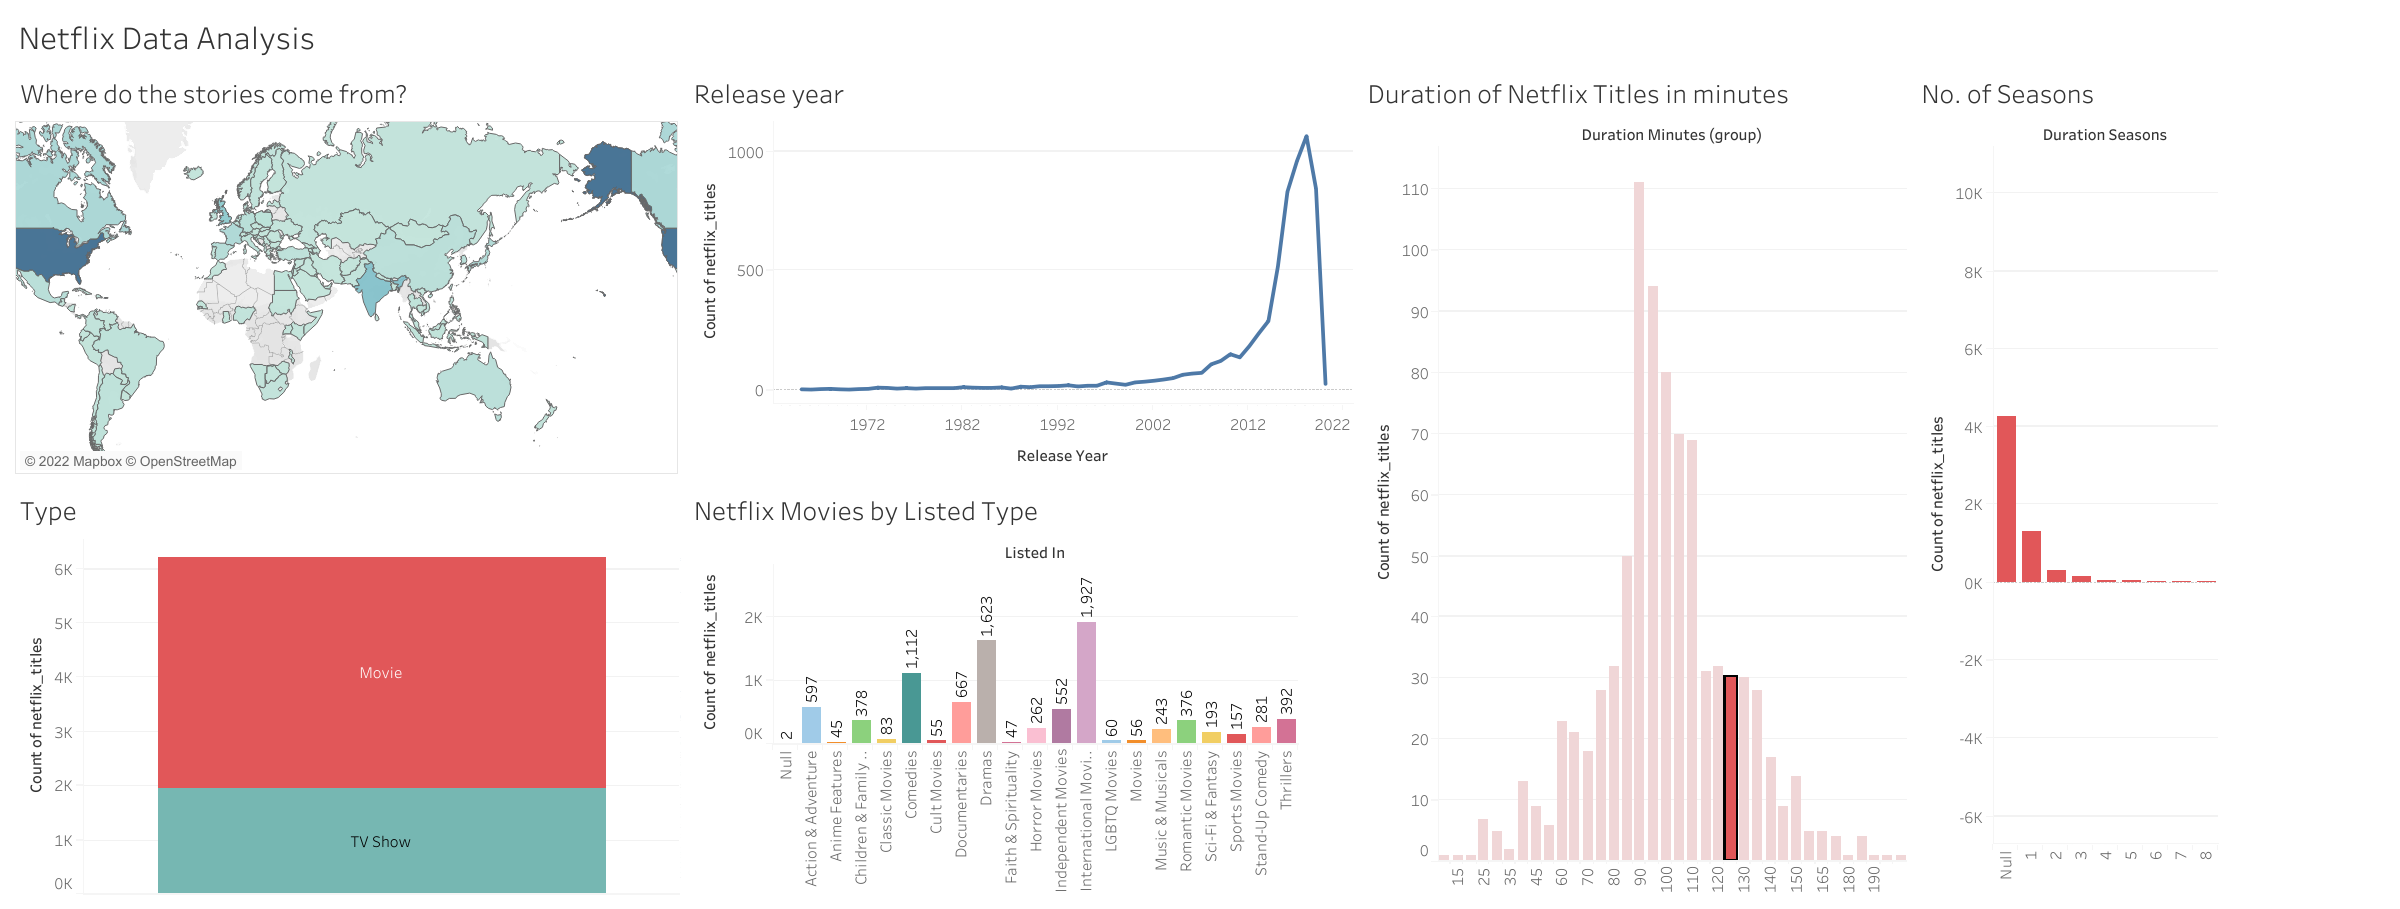

This screenshot's page, from the dashboard's own definition file:
{"tool":"tableau","page":{"name":"Netflix Data Analysis","canvas":[1000,1000],"units":"permille","ordinal":0},"visuals":[{"type":"title","box":[6.5,15.8,987.1,82.7]},{"type":"worksheet","title":"Count of titles by countries","mark":"Automatic","box":[6.5,98.4,279.5,442.9]},{"type":"worksheet","title":"Release year","mark":"Automatic","rows":["netflix!titles_D345FC09344E47E59A7D0CCDE81402F2"],"cols":["release_year"],"box":[286,98.4,279.6,442.9]},{"type":"worksheet","title":"Duration","mark":"Automatic","rows":["netflix!titles_D345FC09344E47E59A7D0CCDE81402F2"],"box":[565.6,98.4,229.5,885.8]},{"type":"worksheet","title":"Seasons","mark":"Automatic","rows":["netflix!titles_D345FC09344E47E59A7D0CCDE81402F2"],"cols":["duration_seasons"],"box":[795,98.4,198.5,885.8]},{"type":"worksheet","title":"Type","mark":"Automatic","rows":["netflix!titles_D345FC09344E47E59A7D0CCDE81402F2"],"box":[6.5,541.3,279.5,442.9]},{"type":"worksheet","title":"Listed","mark":"Automatic","rows":["netflix!titles_D345FC09344E47E59A7D0CCDE81402F2"],"cols":["listed_in"],"box":[286,541.3,279.6,442.9]}]}

Visuals, with their boxes on the dashboard's canvas, which has no fixed pixel size, in thousandths of its width and height (x1, y1, x2, y2). These are canvas units, not pixel positions in the 2400x909 screenshot, which may show the page scaled, cropped or inside an application window:
title: x1=6 y1=16 x2=994 y2=98
"Count of titles by countries" worksheet: x1=6 y1=98 x2=286 y2=541
"Release year" worksheet: x1=286 y1=98 x2=566 y2=541
"Duration" worksheet: x1=566 y1=98 x2=795 y2=984
"Seasons" worksheet: x1=795 y1=98 x2=994 y2=984
"Type" worksheet: x1=6 y1=541 x2=286 y2=984
"Listed" worksheet: x1=286 y1=541 x2=566 y2=984
